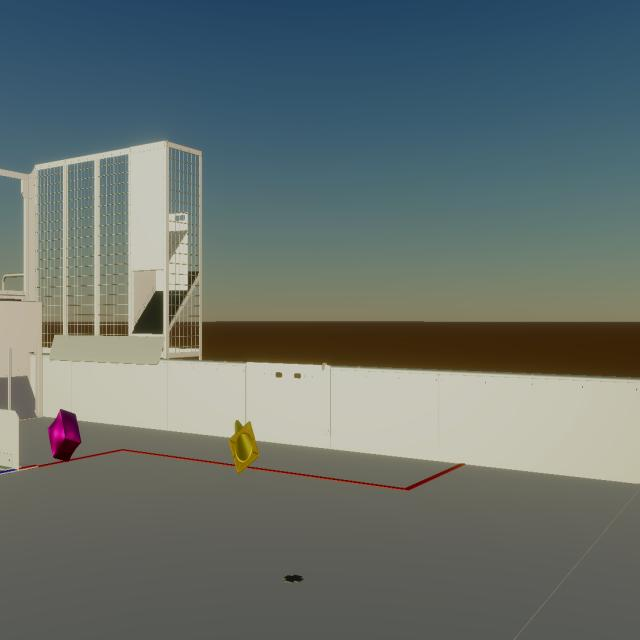frc_cone: (229, 420, 259, 475)
frc_cube: (48, 409, 81, 462)
